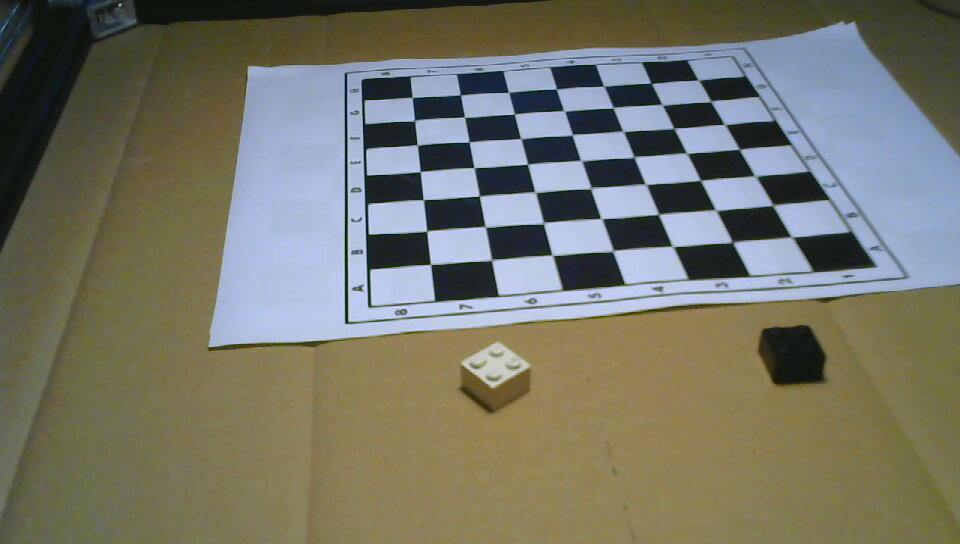bp: (757, 324, 826, 385)
wp: (459, 341, 532, 416)
